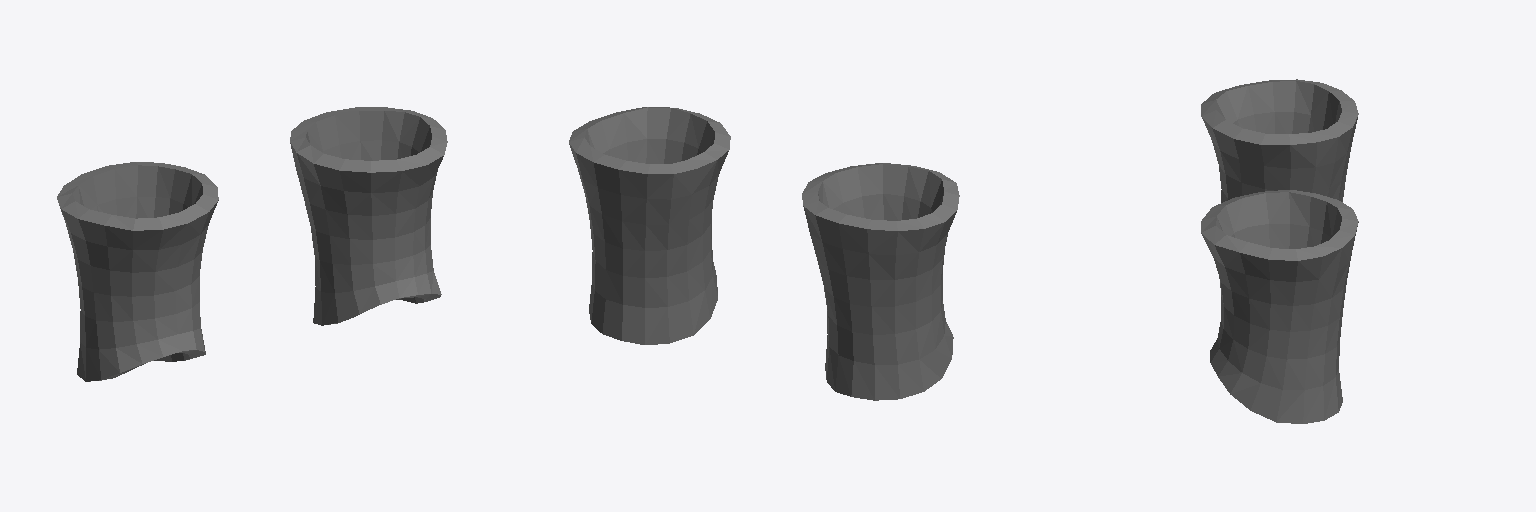
Rendered from LowPoly_Aristocrata_BotasParte02.obj.
3 views of the same model, side by side, from view 1: azimuth 30°, elevation 25°; view 2: azimuth 150°, elevation 25°; view 3: azimuth 270°, elevation 25° (orthographic).
Parts seen in each view (by area): view 1: LowPoly_Aristocrata_BotasParte02; view 2: LowPoly_Aristocrata_BotasParte02; view 3: LowPoly_Aristocrata_BotasParte02.
Part boxes in pixels (bbox=[...]): LowPoly_Aristocrata_BotasParte02: bbox=[57, 107, 447, 381]; LowPoly_Aristocrata_BotasParte02: bbox=[569, 107, 959, 400]; LowPoly_Aristocrata_BotasParte02: bbox=[1201, 79, 1358, 423].
Bounding box in the file's own units: 40.73 × 19.55 × 14.93.